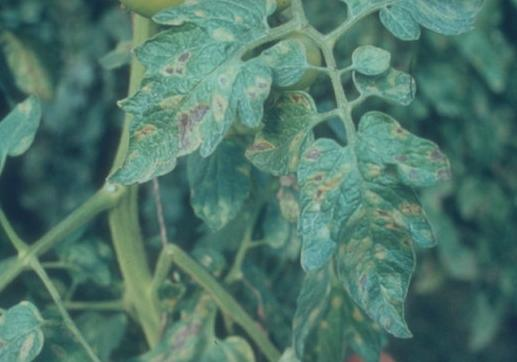Tomato mold leaf: (93, 0, 304, 188), (293, 111, 451, 345), (0, 88, 43, 170), (0, 300, 53, 362), (347, 44, 394, 82)
